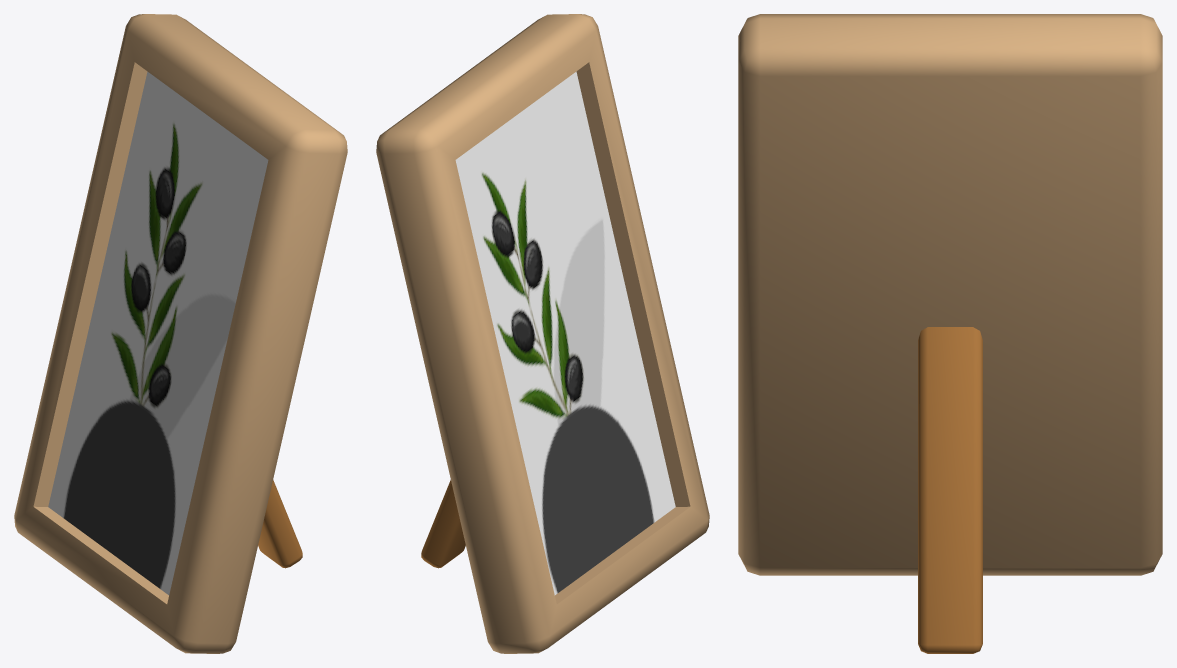
The model's file is Frame01.fbx.
3 renders of one model, left to right at view 1: azimuth 30°, elevation 25°; view 2: azimuth 150°, elevation 25°; view 3: azimuth 270°, elevation 25°, orthographic. The views are drawn at different scales.
Parts seen in each view (by area): view 1: Frame01; view 2: Frame01; view 3: Frame01.
Part boxes in pixels (x1,y1,x2,y2): Frame01: [14, 14, 347, 653]; Frame01: [376, 14, 709, 653]; Frame01: [738, 14, 1162, 653].
Bounding box in the file's own units: 0.0646 × 0.1 × 0.1573.
